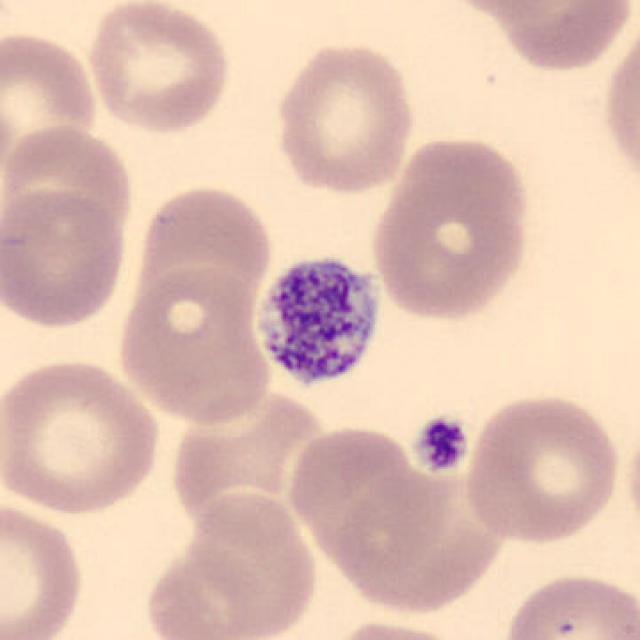Platelets: (247, 244, 388, 401), (411, 413, 471, 474)
RBC: (366, 131, 535, 326), (140, 493, 323, 640), (0, 354, 164, 518), (114, 263, 276, 427), (123, 180, 277, 349), (460, 389, 624, 546), (348, 467, 516, 612), (270, 37, 420, 197), (174, 398, 325, 540), (278, 426, 429, 567), (84, 0, 234, 136), (2, 184, 132, 334), (0, 120, 139, 254), (0, 26, 101, 176), (0, 495, 89, 640), (491, 0, 636, 74), (496, 567, 638, 640), (597, 14, 640, 194), (322, 615, 471, 640), (430, 0, 604, 19), (622, 413, 640, 550)
